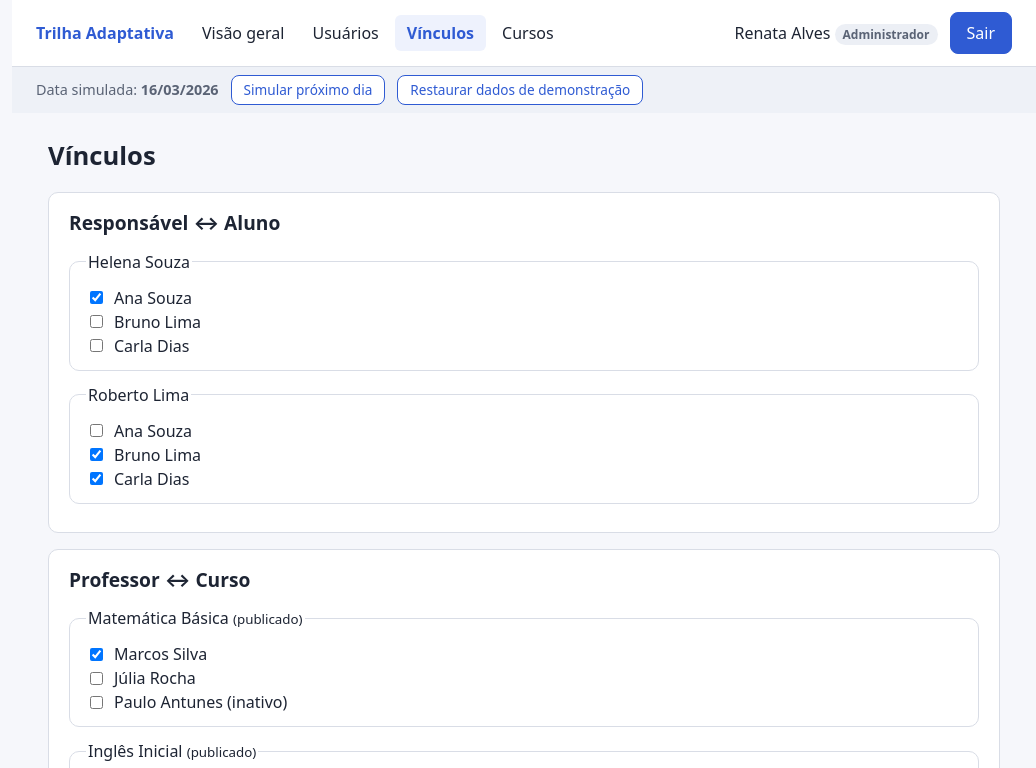
Test: perfis-acesso › vínculo criado pelo Administrador passa a aparecer para o Responsável
Step 1. Click the checkbox labelled "Bruno Lima" below "Helena Souza" → (96, 322), box [90, 315, 103, 328]
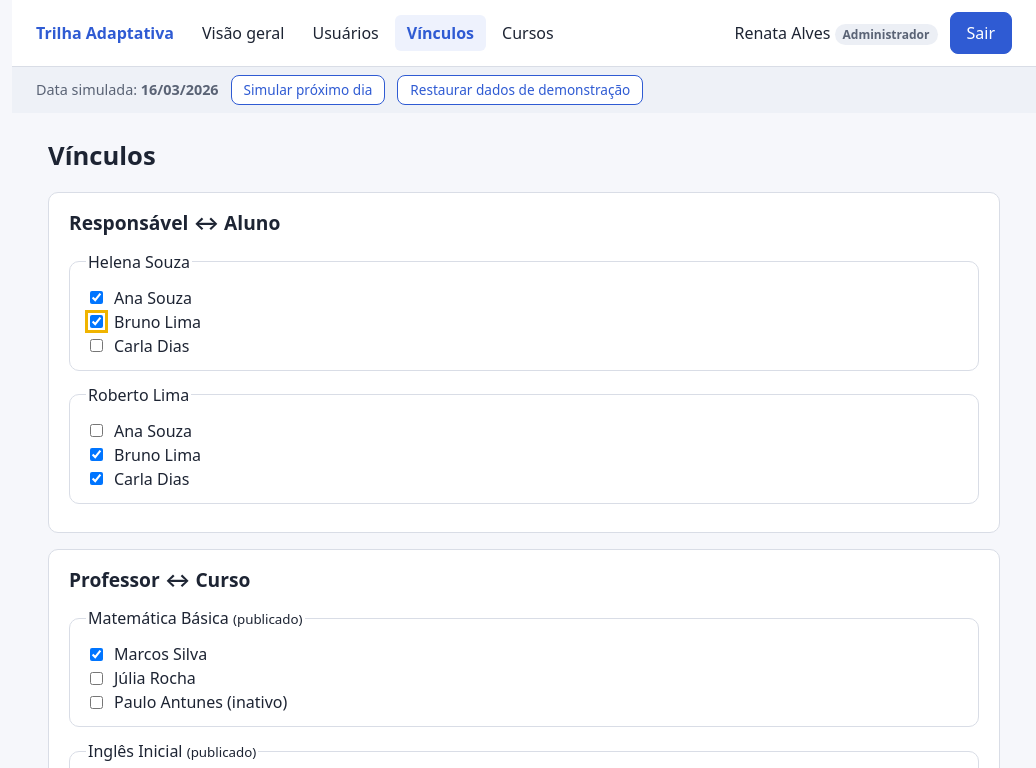
Step 2. Click the button "Sair" → (981, 33), box [950, 12, 1012, 54]
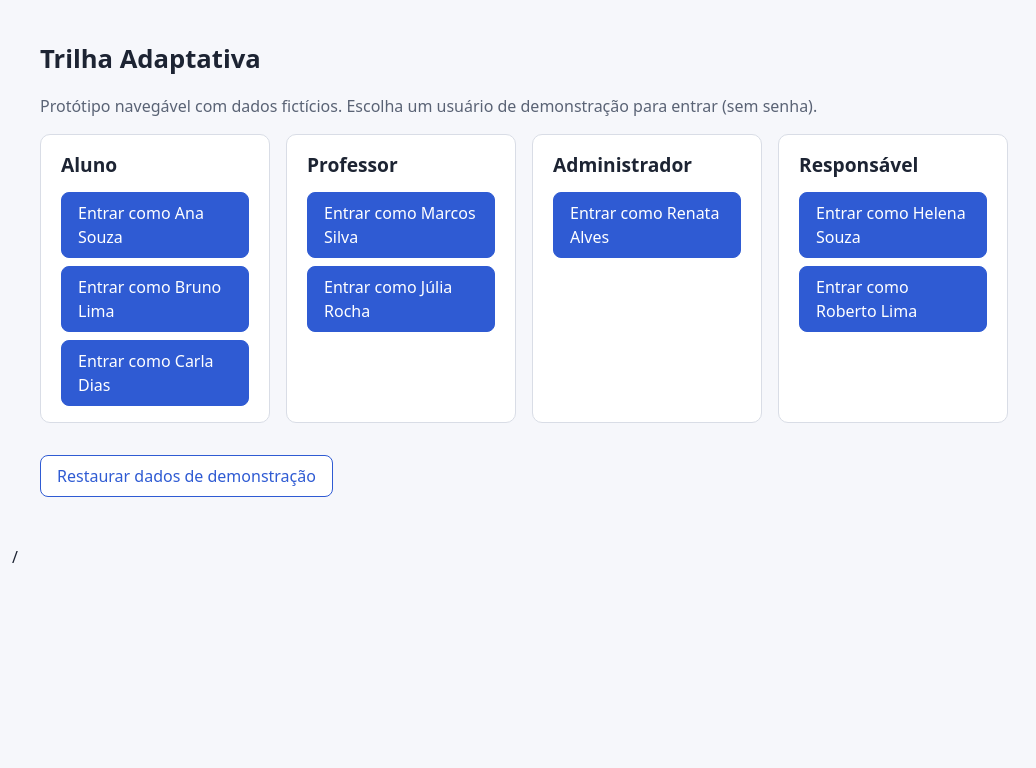
Step 3. Click the button "Entrar como Helena Souza" → (893, 225), box [799, 192, 987, 258]
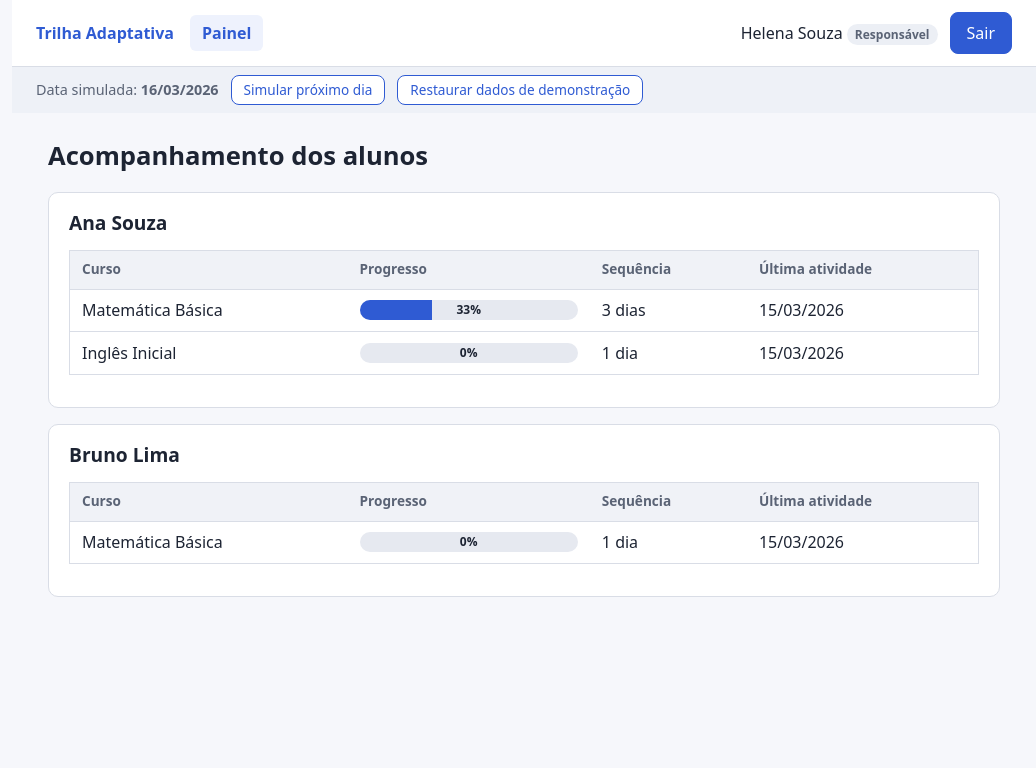
Expected: the element named "Aluno Bruno Lima" is shown, [48, 424, 1000, 597]
